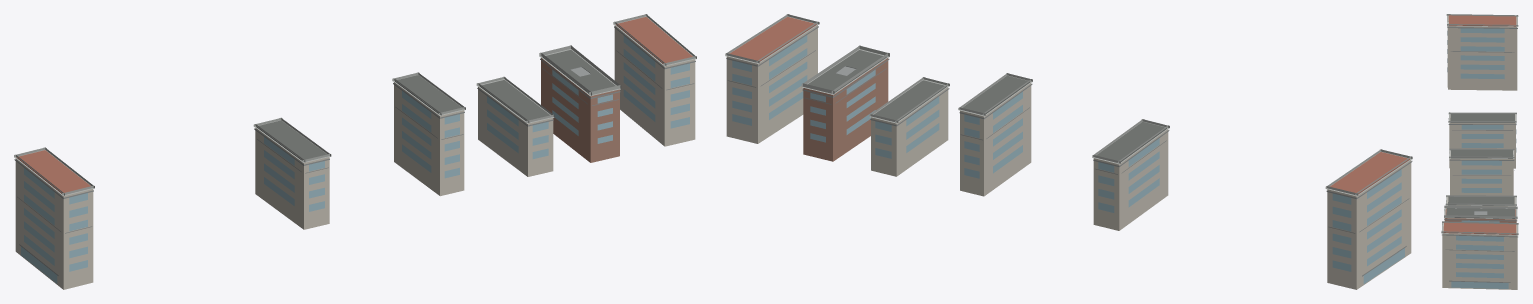
The picture shows the model from 3 angles, left to right: view 1: azimuth 30°, elevation 25°; view 2: azimuth 150°, elevation 25°; view 3: azimuth 270°, elevation 25°; orthographic projection. The views are drawn at different scales.
Visible parts, largest first — view 1: building-0182-mesh-0, building-0330-mesh-26, building-0263-mesh-10, building-0329-mesh-20, building-0262-mesh-5, building-0328-mesh-15, building-0182-mesh-1, building-0330-mesh-27, building-0263-mesh-11, building-0330-mesh-29, building-0262-mesh-6, building-0182-mesh-3 (+12 smaller); view 2: building-0182-mesh-0, building-0330-mesh-26, building-0329-mesh-20, building-0263-mesh-10, building-0262-mesh-5, building-0328-mesh-15, building-0182-mesh-1, building-0330-mesh-27, building-0263-mesh-11, building-0330-mesh-29, building-0262-mesh-6, building-0182-mesh-3 (+12 smaller); view 3: building-0182-mesh-0, building-0330-mesh-26, building-0263-mesh-10, building-0330-mesh-27, building-0182-mesh-1, building-0262-mesh-5, building-0263-mesh-11, building-0330-mesh-29, building-0182-mesh-3, building-0262-mesh-6, building-0329-mesh-23, building-0328-mesh-18 (+16 smaller).
Boxes of the visible parts, box(x1,y1,x2,y2) form: building-0182-mesh-0: box(15, 158, 93, 289); building-0330-mesh-26: box(614, 25, 695, 146); building-0263-mesh-10: box(394, 82, 464, 196); building-0329-mesh-20: box(541, 58, 619, 162); building-0262-mesh-5: box(255, 128, 329, 229); building-0328-mesh-15: box(478, 87, 553, 176); building-0182-mesh-1: box(21, 168, 87, 283); building-0330-mesh-27: box(623, 36, 689, 128); building-0263-mesh-11: box(402, 91, 459, 178); building-0330-mesh-29: box(616, 17, 692, 63); building-0262-mesh-6: box(264, 137, 324, 211); building-0182-mesh-3: box(16, 150, 90, 193); building-0182-mesh-0: box(1327, 160, 1411, 289); building-0330-mesh-26: box(726, 25, 817, 143); building-0329-mesh-20: box(803, 58, 888, 161); building-0263-mesh-10: box(960, 83, 1031, 196); building-0262-mesh-5: box(1093, 129, 1168, 230); building-0328-mesh-15: box(871, 87, 948, 176); building-0182-mesh-1: box(1332, 169, 1404, 283); building-0330-mesh-27: box(732, 35, 807, 125); building-0263-mesh-11: box(964, 91, 1022, 178); building-0330-mesh-29: box(729, 16, 816, 61); building-0262-mesh-6: box(1098, 138, 1159, 212); building-0182-mesh-3: box(1330, 152, 1409, 193); building-0182-mesh-0: box(1447, 16, 1517, 90); building-0330-mesh-26: box(1442, 223, 1517, 289); building-0263-mesh-10: box(1450, 151, 1513, 195); building-0330-mesh-27: box(1451, 235, 1508, 288); building-0182-mesh-1: box(1447, 28, 1504, 79); building-0262-mesh-5: box(1449, 115, 1515, 168); building-0263-mesh-11: box(1461, 160, 1501, 192); building-0330-mesh-29: box(1443, 222, 1516, 234); building-0182-mesh-3: box(1448, 15, 1516, 26); building-0262-mesh-6: box(1461, 123, 1516, 152); building-0329-mesh-23: box(1446, 208, 1515, 218); building-0328-mesh-18: box(1448, 196, 1514, 205).
Size of the model in its own units: 166 by 24 by 25.59.
